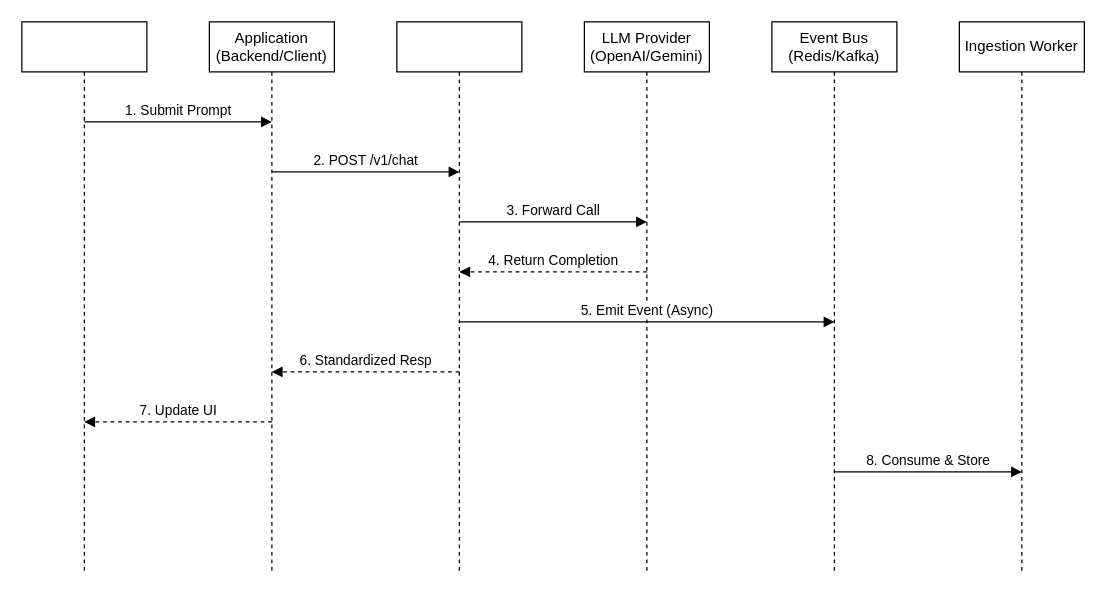
Image size: 1106x594. Some labels were removed from this diagram. Each missing label, with the box of its shape:
End User (Human): (21, 21, 147, 572)
Proxy Gateway (Your System): (396, 21, 522, 572)
